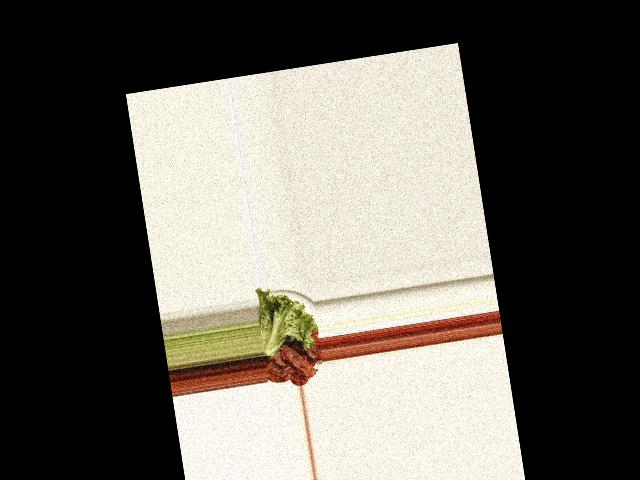lettuce: (253, 283, 319, 356)
